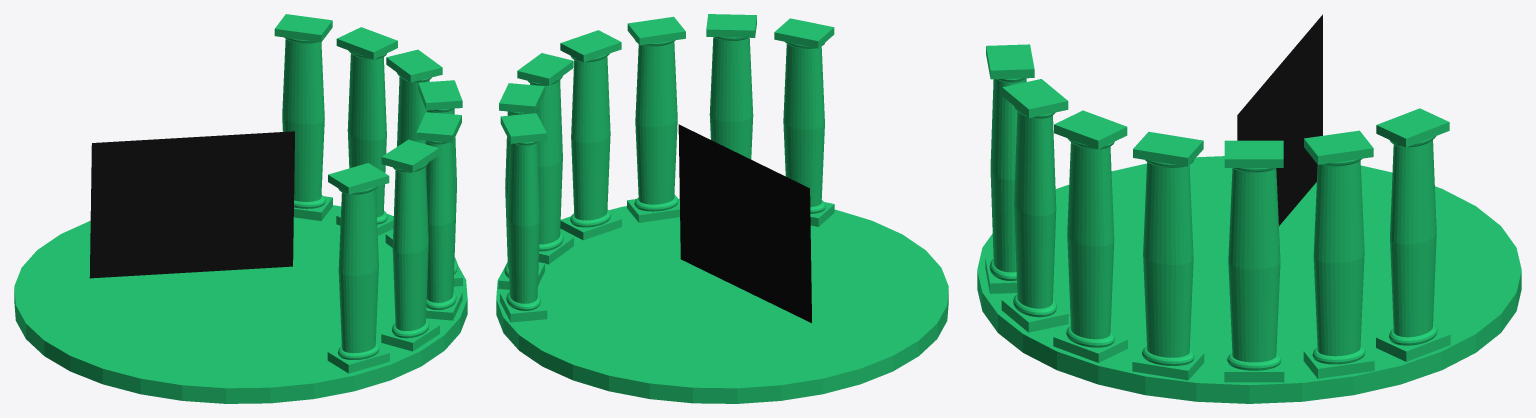
File: Float5.fbx
3 renders of one model, left to right at view 1: azimuth 30°, elevation 25°; view 2: azimuth 150°, elevation 25°; view 3: azimuth 270°, elevation 25°, orthographic. The views are drawn at different scales.
Parts seen in each view (by area): view 1: Plane; view 2: Plane; view 3: Plane.
Part boxes in pixels (<box>): Plane: <box>14,14,467,403</box>; Plane: <box>496,14,948,403</box>; Plane: <box>977,14,1521,403</box>.
Bounding box in the file's own units: 1415 × 693 × 1415.
